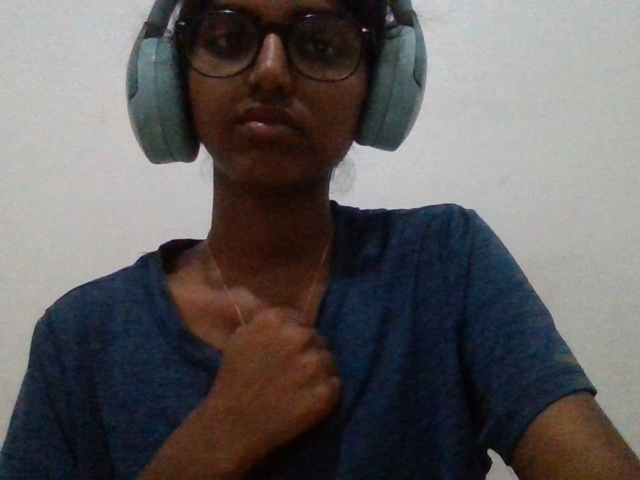Sorry: (153, 281, 366, 480)
